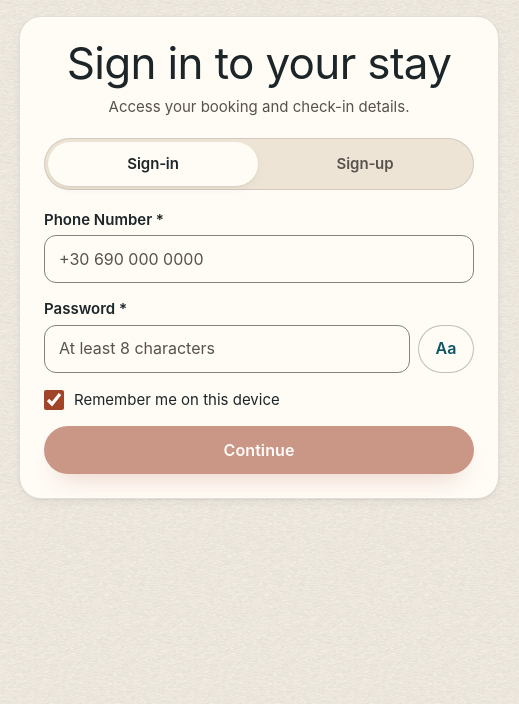
Test: guest sign-in errors › names both causes of a refused sign-in: credentials or the access window
This screenshot has width=519, height=704.
In the field labelled "Phone Number *": (259, 259) left=44, top=235, right=474, bottom=283, type "+306912345678"
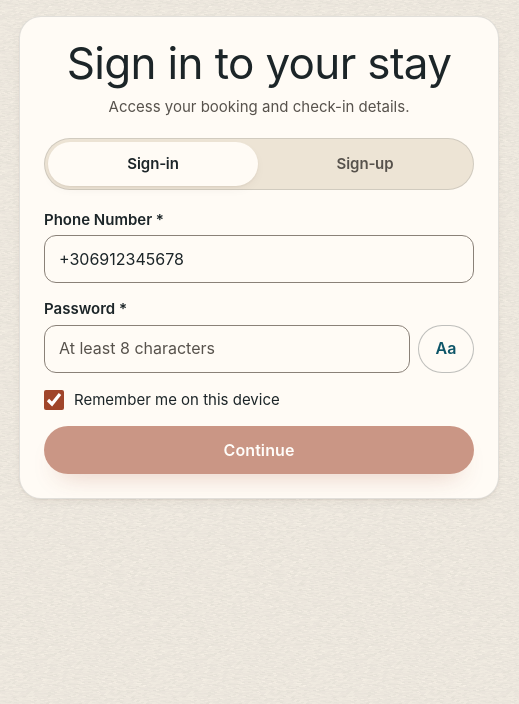
In the password field labelled "Password *": (227, 349) left=44, top=325, right=410, bottom=373, type "correct-horse-battery"
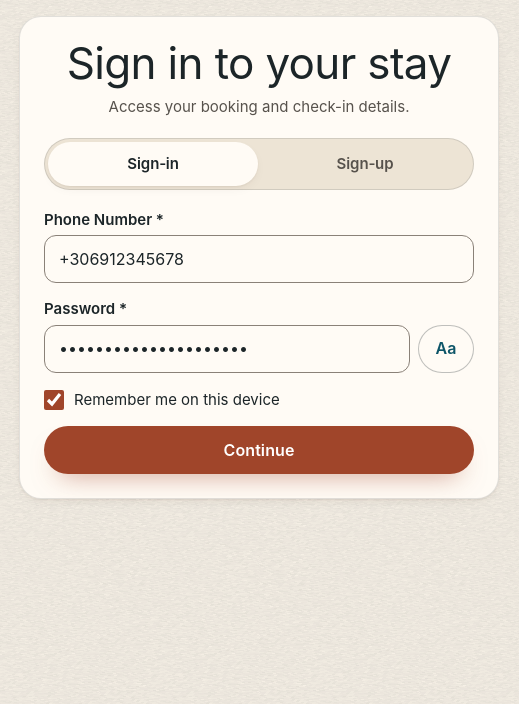
Submit the form, box left=44, top=210, right=474, bottom=474
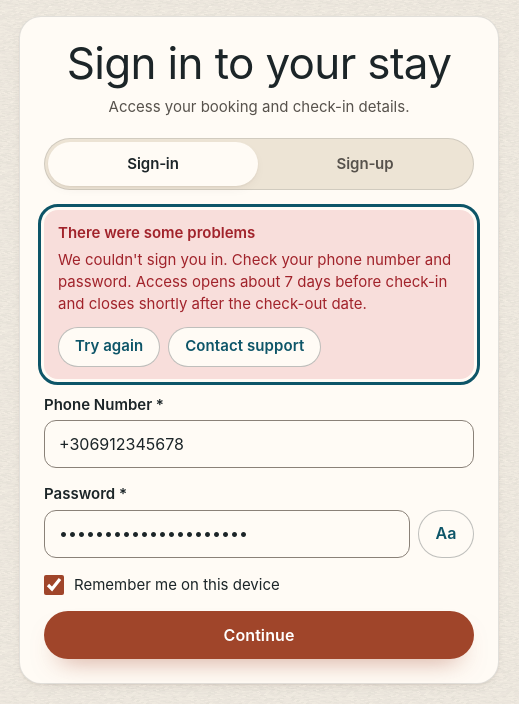
Check: the text "Check your phone number and password. Access opens about 7 days before check-in and closes shortly after the check-out " is shown, box left=58, top=250, right=451, bottom=313
